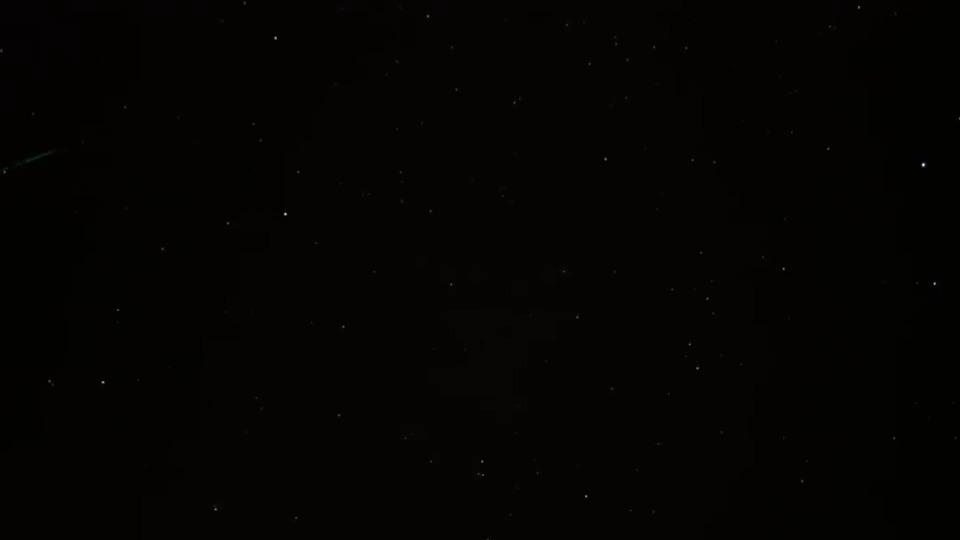meteorite: (1, 141, 92, 173)
